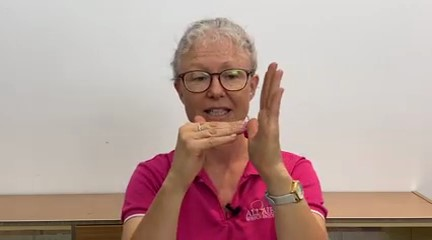Z: (166, 55, 302, 190)
